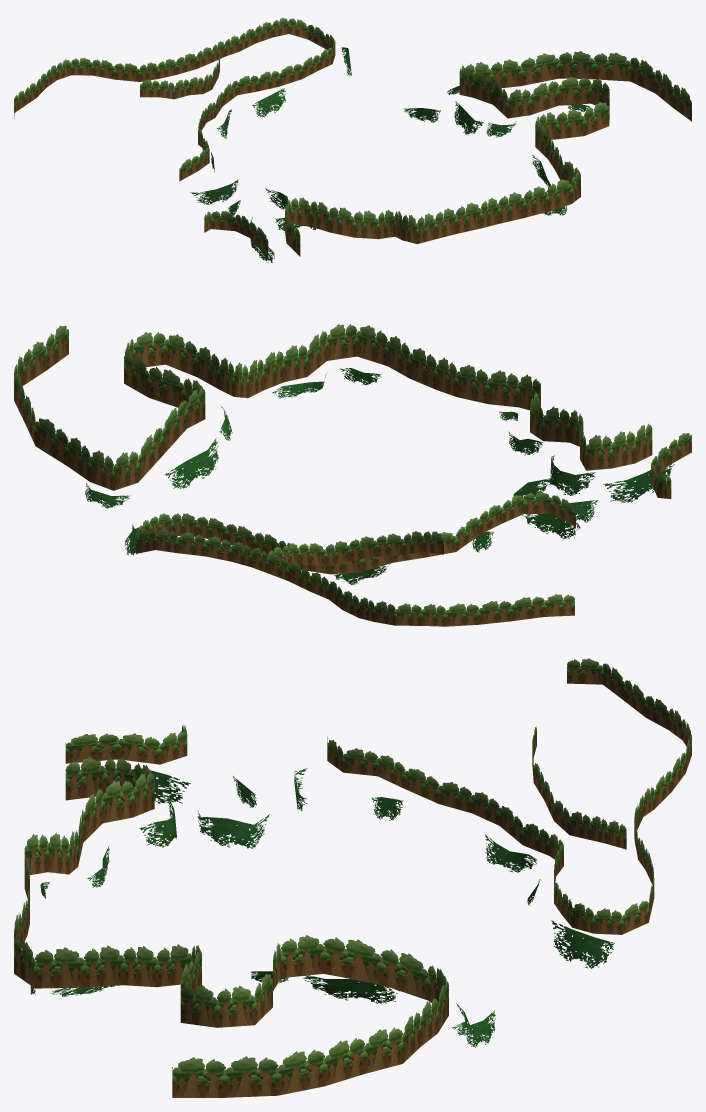
Rendered from level_transparent.fbx.
3 renders of one model, top to bottom at view 1: azimuth 30°, elevation 25°; view 2: azimuth 150°, elevation 25°; view 3: azimuth 270°, elevation 25°, orthographic. The views are drawn at different scales.
Visible parts, largest first — view 1: transparent_GEO_GRP; view 2: transparent_GEO_GRP; view 3: transparent_GEO_GRP.
Part boxes in pixels (x1,y1,x2,y2): transparent_GEO_GRP: (14,17,691,262); transparent_GEO_GRP: (14,324,691,626); transparent_GEO_GRP: (14,658,691,1097).
Size of the model in its own units: 118 by 21.65 by 88.53.
2 materials, 2 textured.
